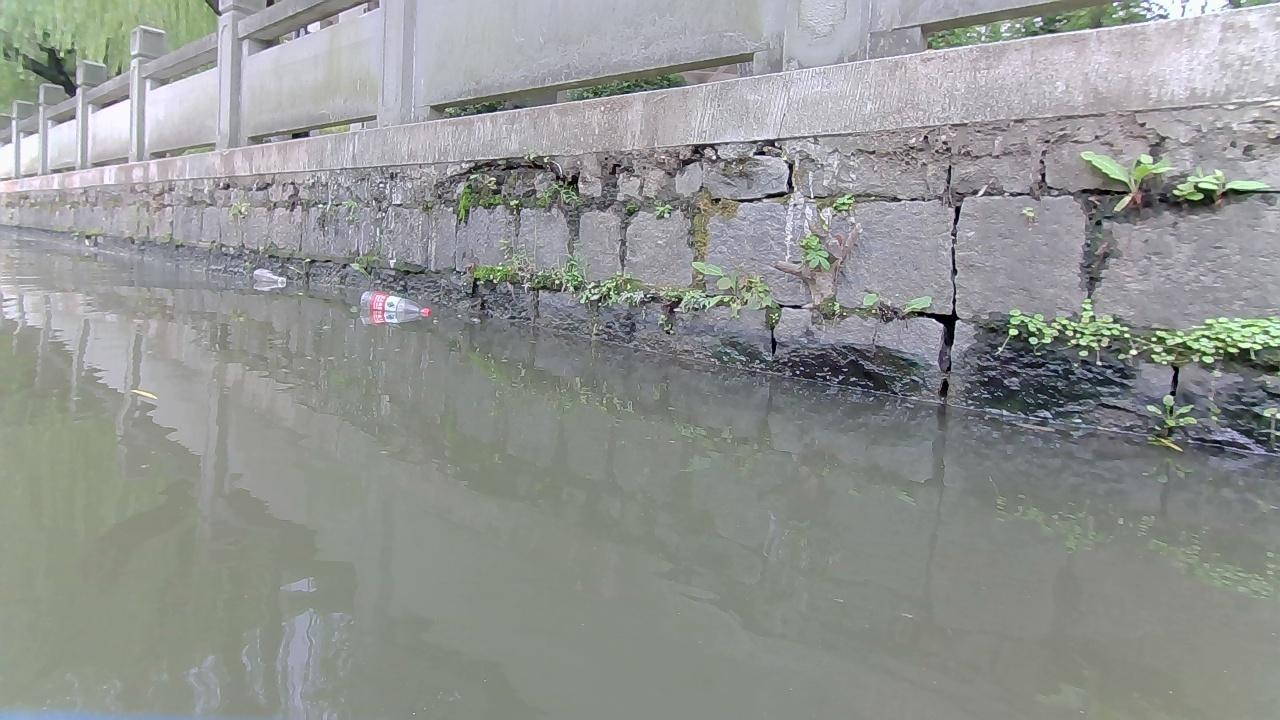bottle: (358, 290, 431, 314), (251, 267, 286, 282)
